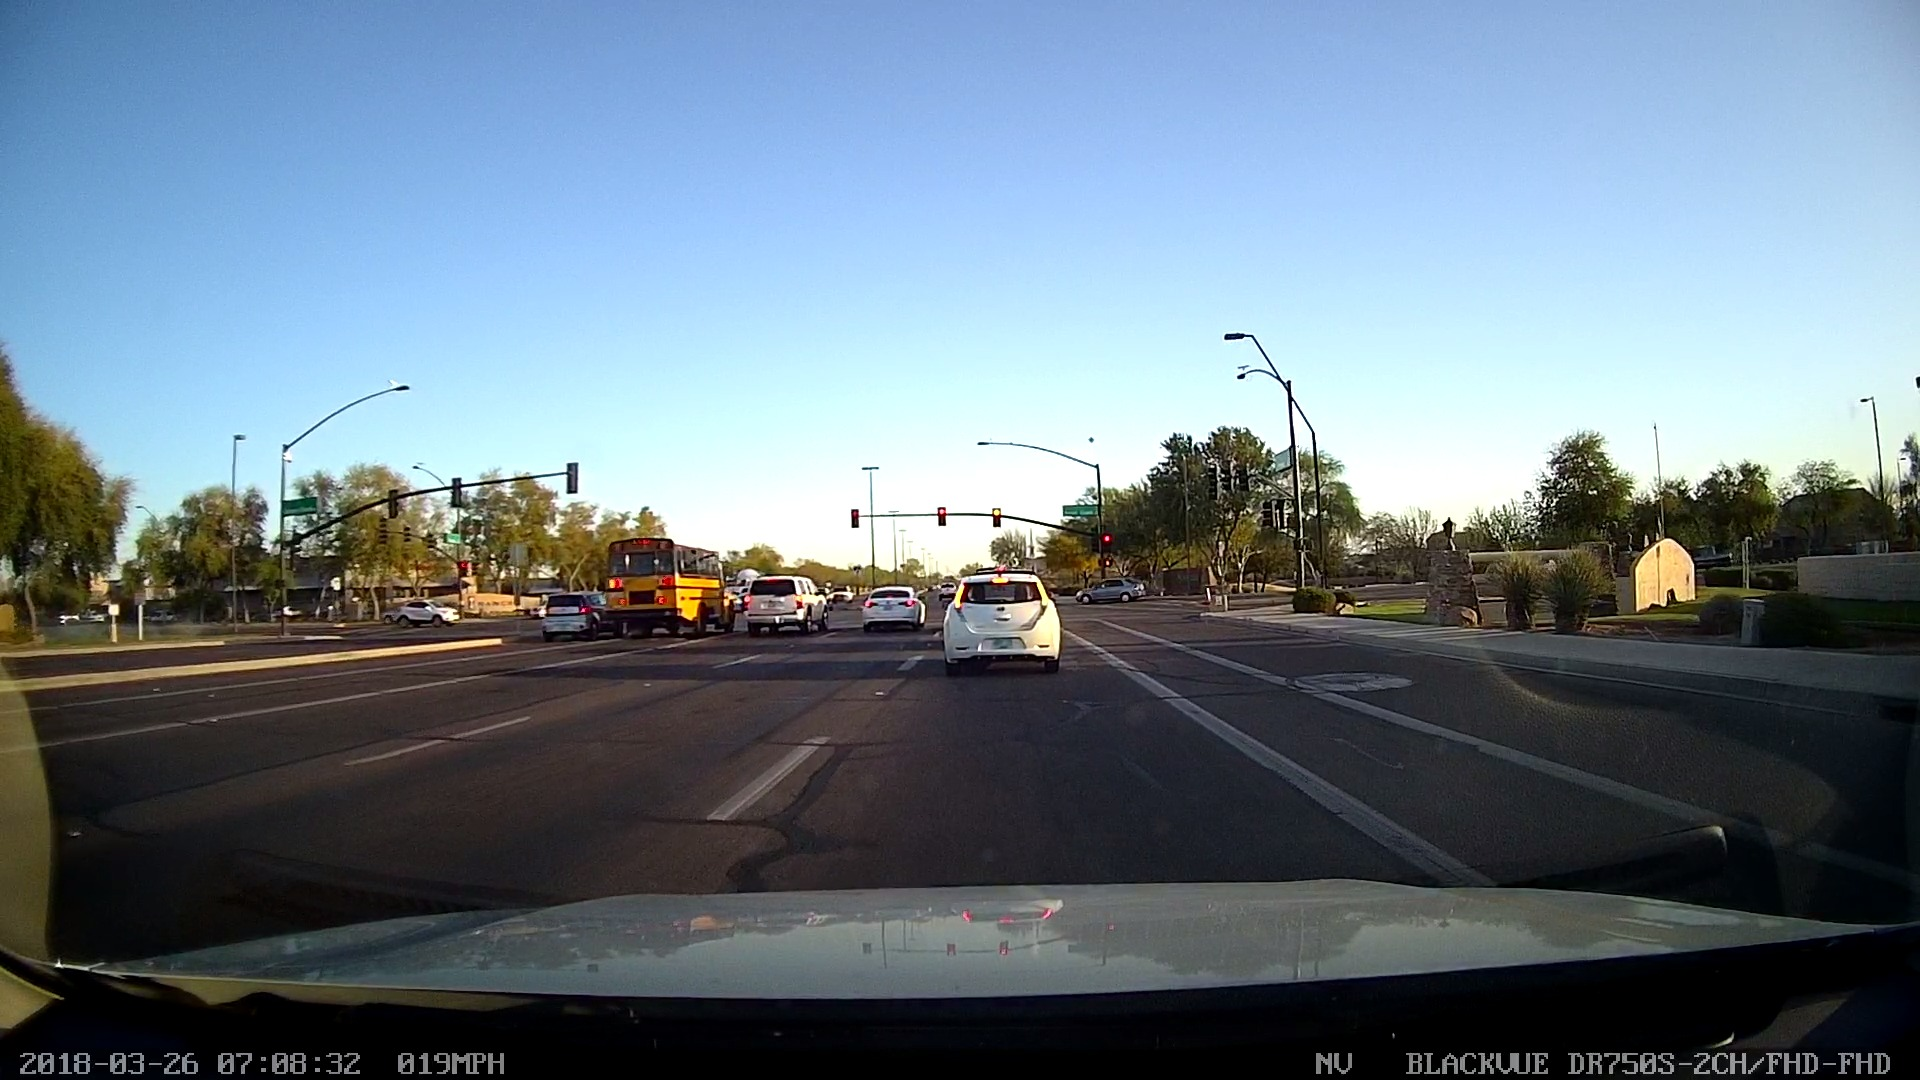vehicle: (593, 518, 741, 649), (935, 559, 1075, 680), (731, 564, 831, 640), (847, 568, 932, 640), (537, 578, 611, 651), (1072, 572, 1147, 608), (393, 593, 458, 629)
